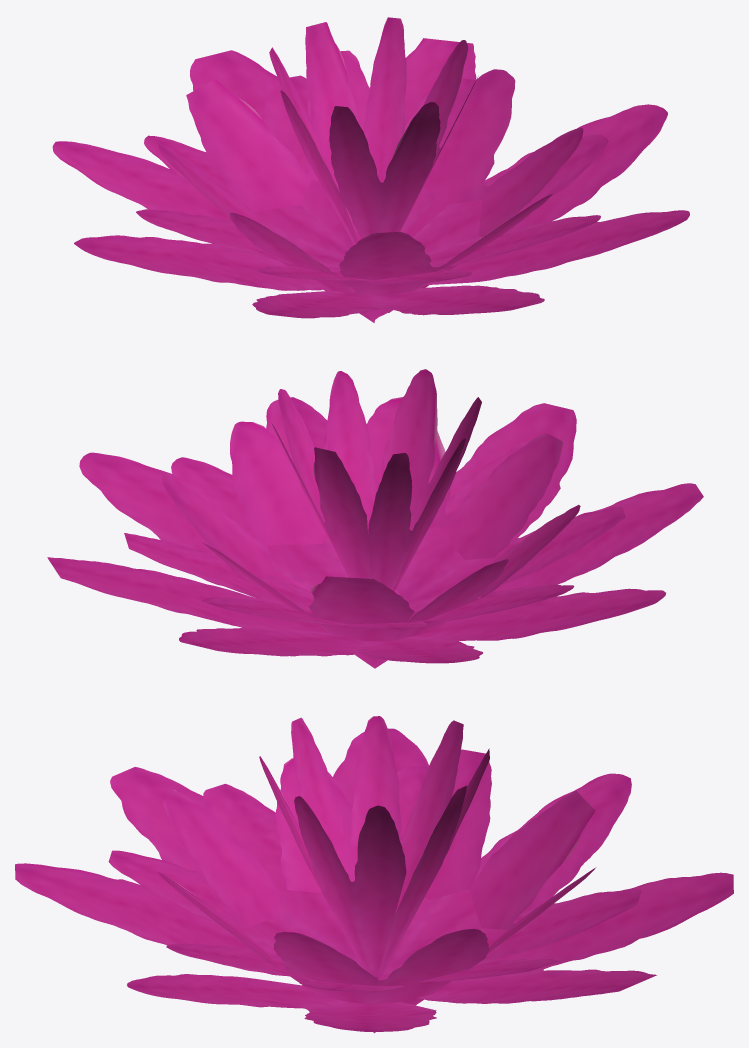
The model's file is Lilia_pojedyncza_roz.glb.
3 renders of one model, top to bottom at view 1: azimuth 30°, elevation 25°; view 2: azimuth 150°, elevation 25°; view 3: azimuth 270°, elevation 25°, orthographic. The views are drawn at different scales.
Visible parts, largest first — view 1: waterPlant; view 2: waterPlant; view 3: waterPlant.
Part boxes in pixels (x1,y1,x2,y2): waterPlant: (52,17,689,322); waterPlant: (47,369,703,668); waterPlant: (15,716,733,1033).
Size of the model in its own units: 0.3956 by 0.1682 by 0.3956.
1 material, 1 textured.
